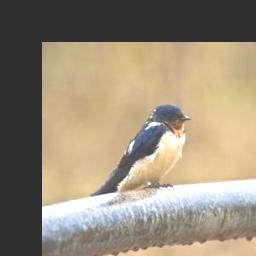Swallow: (90, 103, 192, 197)
